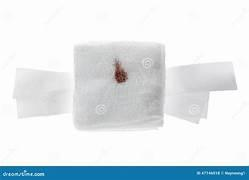cotton: (13, 42, 236, 128), (73, 42, 164, 128), (165, 62, 237, 123), (13, 68, 72, 117), (14, 68, 72, 117), (166, 62, 236, 95), (13, 68, 72, 98), (16, 93, 71, 117), (165, 92, 208, 122)
